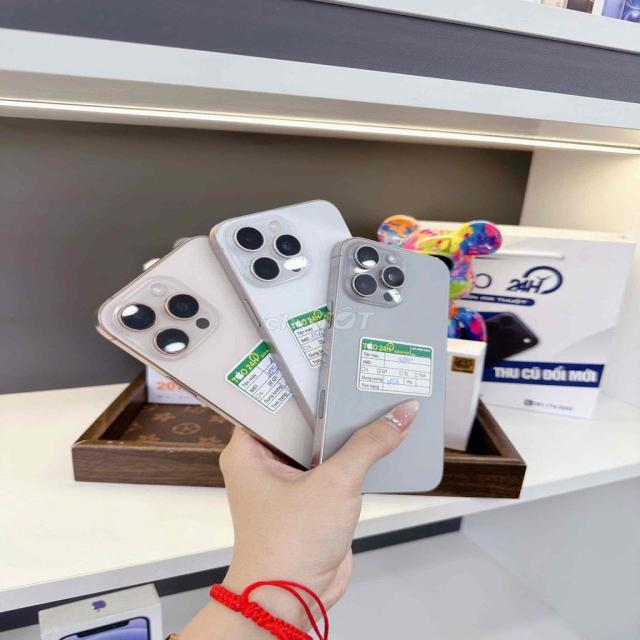gen_16: (314, 229, 456, 494)
